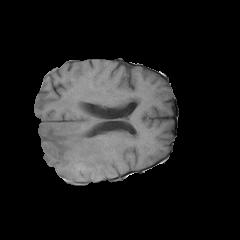glioma: (38, 97, 139, 179)
